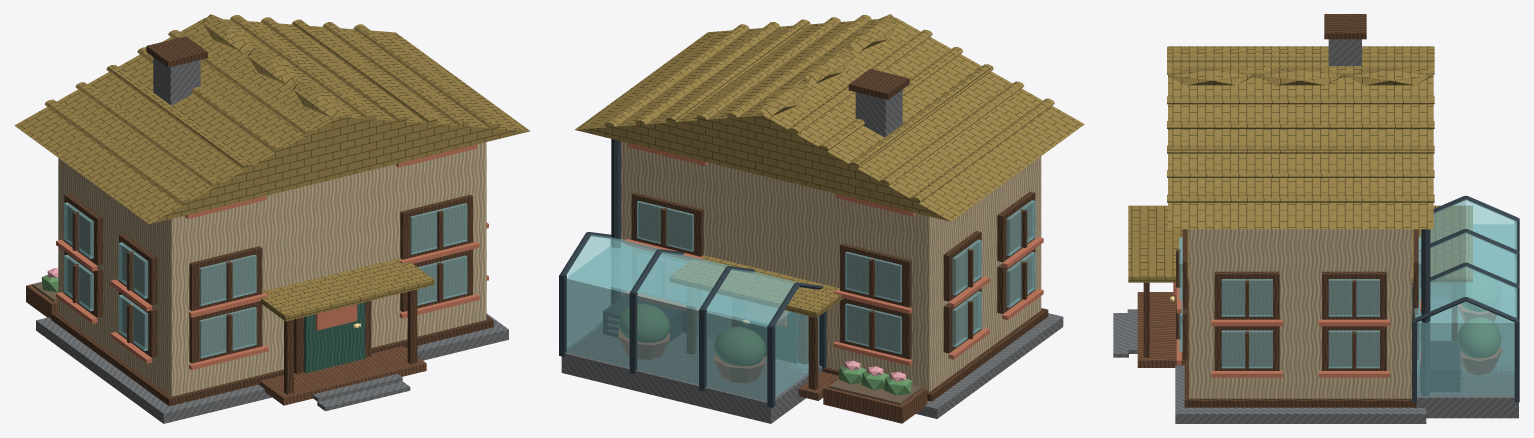
The model's file is house_cottage_lv4_greenhouse.glb.
The picture shows the model from 3 angles, left to right: view 1: azimuth 30°, elevation 25°; view 2: azimuth 150°, elevation 25°; view 3: azimuth 270°, elevation 25°; orthographic projection.
Visible parts, largest first — view 1: gable_roof, walls, foundation, front_porch_canopy, front_deck, floor_trim, front_window_frame.002, front_window_frame.003, front_window_frame, front_door, front_window_frame.001, front_window_glass.003 (+37 smaller); view 2: gable_roof, walls, greenhouse_glazing, greenhouse_plinth, greenhouse_roof, back_porch_canopy, back_window_frame.003, back_window_frame.002, foundation, back_window_frame, back_garden_bed, back_window_glass.003 (+43 smaller); view 3: gable_roof, walls, greenhouse_glazing, greenhouse_roof, foundation, front_porch_canopy, greenhouse_plinth, right_window_frame.002, right_window_frame.003, back_porch_canopy, right_window_frame, right_window_frame.001 (+36 smaller).
Part boxes in pixels (x1,y1,x2,y2): gable_roof: [14, 17, 530, 224]; walls: [58, 142, 486, 396]; foundation: [36, 313, 508, 423]; front_porch_canopy: [258, 258, 434, 321]; front_deck: [259, 346, 426, 405]; floor_trim: [51, 311, 493, 406]; front_window_frame.002: [189, 246, 262, 310]; front_window_frame.003: [400, 194, 472, 259]; front_window_frame: [189, 301, 262, 363]; front_door: [304, 302, 365, 372]; front_window_frame.001: [400, 249, 472, 311]; front_window_glass.003: [410, 203, 467, 254]; gable_roof: [575, 17, 1084, 221]; walls: [621, 141, 1041, 391]; greenhouse_glazing: [566, 243, 819, 401]; greenhouse_plinth: [561, 325, 822, 423]; greenhouse_roof: [566, 234, 799, 324]; back_porch_canopy: [670, 255, 843, 317]; back_window_frame.003: [631, 192, 703, 256]; back_window_frame.002: [840, 243, 911, 307]; foundation: [916, 313, 1063, 418]; back_window_frame: [840, 298, 911, 359]; back_garden_bed: [823, 377, 927, 423]; back_window_glass.003: [637, 201, 693, 251]; gable_roof: [1168, 46, 1433, 229]; walls: [1189, 229, 1412, 398]; greenhouse_glazing: [1416, 224, 1515, 396]; greenhouse_roof: [1414, 199, 1517, 317]; foundation: [1175, 365, 1426, 423]; front_porch_canopy: [1128, 205, 1188, 282]; greenhouse_plinth: [1413, 363, 1518, 418]; right_window_frame.002: [1214, 271, 1279, 319]; right_window_frame.003: [1322, 271, 1386, 319]; back_porch_canopy: [1412, 205, 1472, 282]; right_window_frame: [1214, 326, 1279, 370]; right_window_frame.001: [1322, 326, 1386, 370].
Size of the model in its own units: 6.6 by 4.75 by 6.19.
13 materials, 7 textured.
